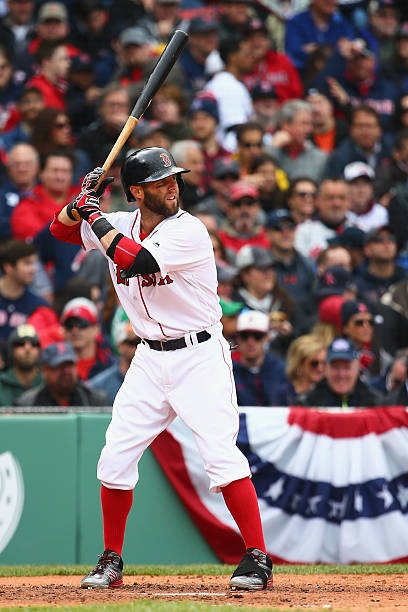bita: (75, 28, 189, 222)
